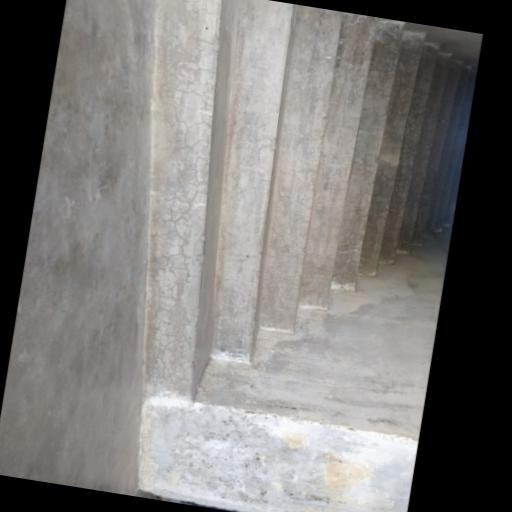stairs: (144, 0, 474, 396)
